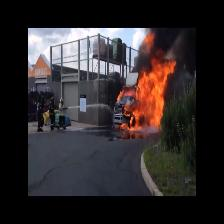fire: (133, 58, 171, 129)
smoke: (161, 27, 192, 58)
